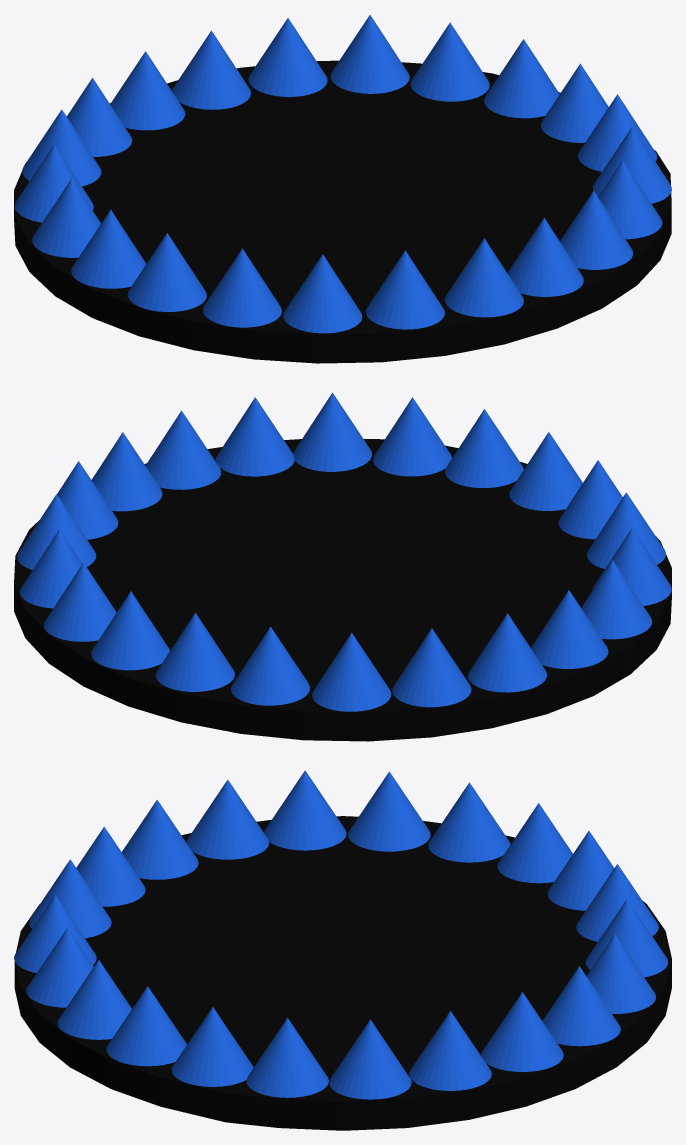
The model's file is TowerPlacementSpot2.fbx.
3 renders of one model, top to bottom at view 1: azimuth 30°, elevation 25°; view 2: azimuth 150°, elevation 25°; view 3: azimuth 270°, elevation 25°, orthographic.
Parts seen in each view (by area): view 1: Cylinder, Cone.020, Cone.021, Cone.008, Cone.010, Cone.009, Cone, Cone.018, Cone.019, Cone.011, Cone.001, Cone.007 (+11 smaller); view 2: Cylinder, Cone.014, Cone.003, Cone.002, Cone.011, Cone.012, Cone.015, Cone.001, Cone.013, Cone.010, Cone, Cone.016 (+11 smaller); view 3: Cylinder, Cone.006, Cone.016, Cone.007, Cone.005, Cone.008, Cone.018, Cone.017, Cone.015, Cone.004, Cone.003, Cone.009 (+11 smaller).
Boxes of the visible parts, <box> form: Cylinder: <box>14,60,671,363</box>; Cone.020: <box>283,254,362,333</box>; Cone.021: <box>365,250,444,329</box>; Cone.008: <box>410,22,489,101</box>; Cone.010: <box>248,18,327,96</box>; Cone.009: <box>330,15,409,93</box>; Cone: <box>444,238,523,317</box>; Cone.018: <box>127,233,206,311</box>; Cone.019: <box>203,248,281,327</box>; Cone.011: <box>172,30,250,109</box>; Cone.001: <box>507,218,583,296</box>; Cone.007: <box>484,39,559,118</box>; Cylinder: <box>14,439,671,741</box>; Cone.014: <box>392,628,471,707</box>; Cone.003: <box>215,397,294,476</box>; Cone.002: <box>293,392,371,471</box>; Cone.011: <box>155,612,234,691</box>; Cone.012: <box>231,626,310,705</box>; Cone.015: <box>468,613,546,692</box>; Cone.001: <box>373,397,451,476</box>; Cone.013: <box>312,632,391,711</box>; Cone.010: <box>91,591,169,670</box>; Cone: <box>445,409,523,488</box>; Cone.016: <box>531,590,608,668</box>; Cylinder: <box>14,816,671,1130</box>; Cone.006: <box>329,1019,411,1099</box>; Cone.016: <box>348,771,430,851</box>; Cone.007: <box>409,1011,491,1090</box>; Cone.005: <box>246,1018,328,1097</box>; Cone.008: <box>481,992,563,1071</box>; Cone.018: <box>186,779,268,859</box>; Cone.017: <box>264,770,346,850</box>; Cone.015: <box>428,782,510,862</box>; Cone.004: <box>171,1007,253,1086</box>; Cone.003: <box>106,986,186,1066</box>; Cone.009: <box>542,966,620,1046</box>.
Bounding box in the file's own units: 200 × 30.61 × 195.
